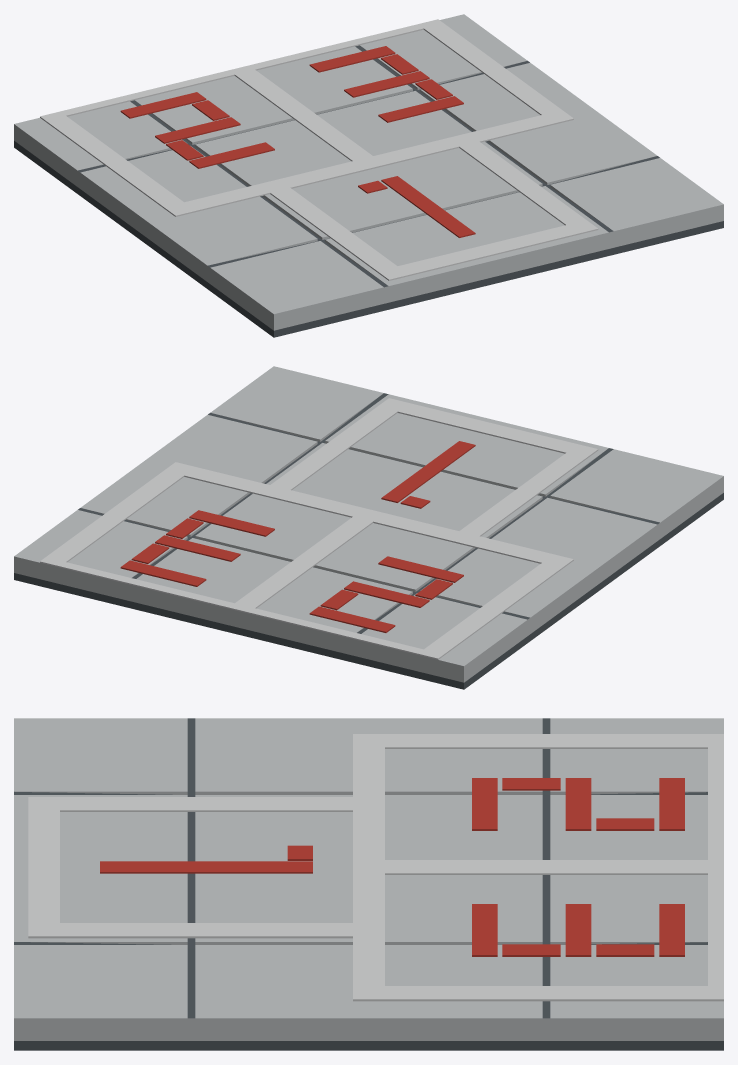
Rendered from playground-marking-decal-97e0b2.glb.
3 views of the same model, one above another, from view 1: azimuth 30°, elevation 25°; view 2: azimuth 150°, elevation 25°; view 3: azimuth 270°, elevation 25° (orthographic). The views are drawn at different scales.
Visible parts, largest first — view 1: marking-tile-mesh; view 2: marking-tile-mesh; view 3: marking-tile-mesh.
Boxes of the visible parts, x1,y1,x2,y2 form: marking-tile-mesh: (14, 14, 723, 337); marking-tile-mesh: (14, 366, 723, 689); marking-tile-mesh: (14, 718, 723, 1050).
Bounding box in the file's own units: 1 × 0.0528 × 1.
